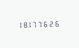eight: (22, 20, 26, 28)
one: (17, 20, 21, 28), (27, 20, 31, 28)
seven: (32, 20, 36, 28), (37, 20, 41, 27)
six: (42, 19, 46, 27), (52, 19, 56, 27)
two: (47, 19, 51, 27)
